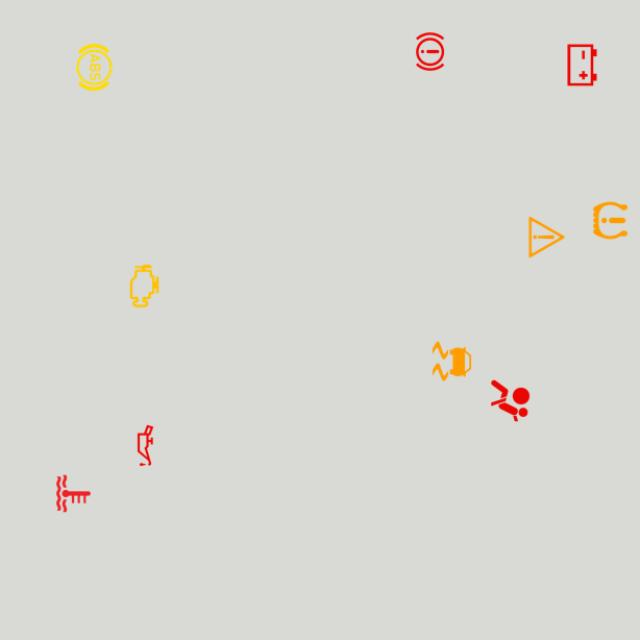Anti Lock Braking System: (69, 42, 120, 92)
Braking System Issue: (404, 26, 456, 77)
Charging System Issue: (556, 40, 608, 90)
Check Engine: (119, 260, 170, 312)
Electronic Stability Problem -ESP-: (427, 336, 478, 386)
Engine Overheating Warning Light: (48, 468, 99, 519)
Low Engine Oil Warning Light: (120, 420, 171, 471)
Low Tire Pressure Warning Light: (585, 195, 636, 246)
Master warning light: (521, 212, 572, 262)
SRS-Airbag: (484, 376, 536, 426)
